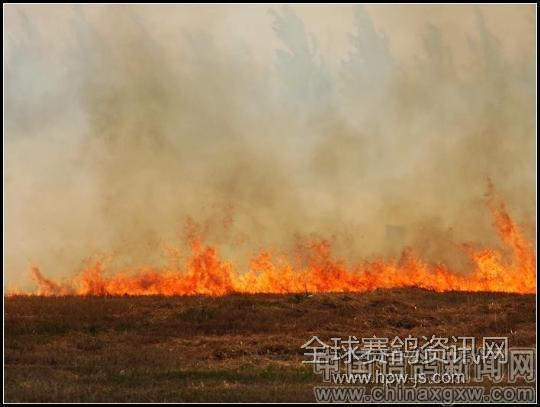fire: (20, 212, 534, 293)
